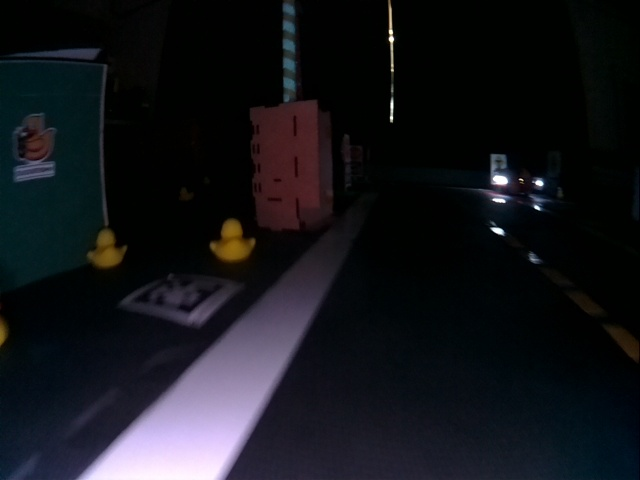Duckie: (210, 219, 257, 260), (87, 229, 127, 267)
QR code: (120, 271, 237, 324)
